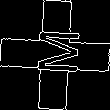M_W: (29, 31, 81, 79)
